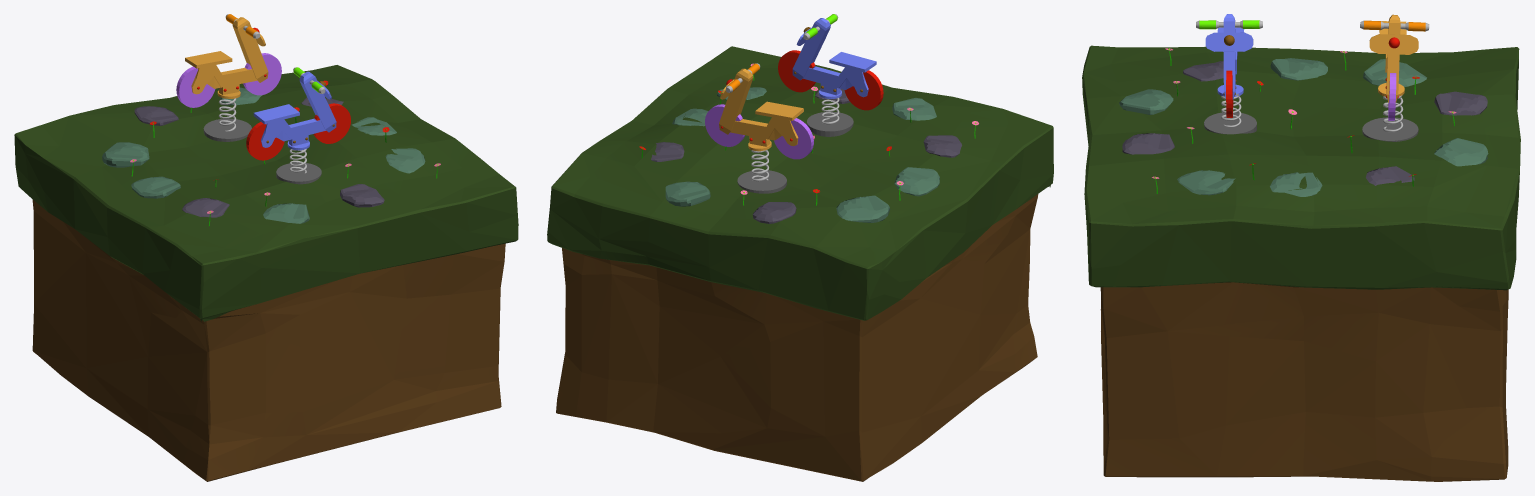
File: tile_springs.min.gltf
3 views of the same model, side by side, from view 1: azimuth 30°, elevation 25°; view 2: azimuth 150°, elevation 25°; view 3: azimuth 270°, elevation 25° (orthographic). The views are drawn at different scales.
Parts seen in each view (by area): view 1: CENTERED.009, Box001.003, Playground Bike.009, Playground Bike.006, Playground Bike.002, Playground Bike.010; view 2: CENTERED.009, Box001.003, Playground Bike.009, Playground Bike.006, Playground Bike.010, Playground Bike.002; view 3: CENTERED.009, Box001.003, Playground Bike.009, Playground Bike.006, Playground Bike.002, Playground Bike.010.
Boxes of the visible parts, x1,y1,x2,y2 form: CENTERED.009: (14,65,518,481); Box001.003: (102,87,425,223); Playground Bike.009: (176,14,281,107); Playground Bike.006: (246,67,350,160); Playground Bike.002: (203,118,251,141); Playground Bike.010: (276,162,321,184); CENTERED.009: (547,46,1053,481); Box001.003: (651,87,961,223); Playground Bike.009: (705,63,813,159); Playground Bike.006: (778,14,883,110); Playground Bike.010: (807,111,853,136); Playground Bike.002: (737,170,786,193); CENTERED.009: (1082,45,1520,481); Box001.003: (1119,58,1488,196); Playground Bike.009: (1360,14,1429,120); Playground Bike.006: (1196,14,1262,117); Playground Bike.002: (1362,117,1418,141); Playground Bike.010: (1204,112,1256,134).
Bounding box in the file's own units: 1.07 × 1.06 × 1.09.
